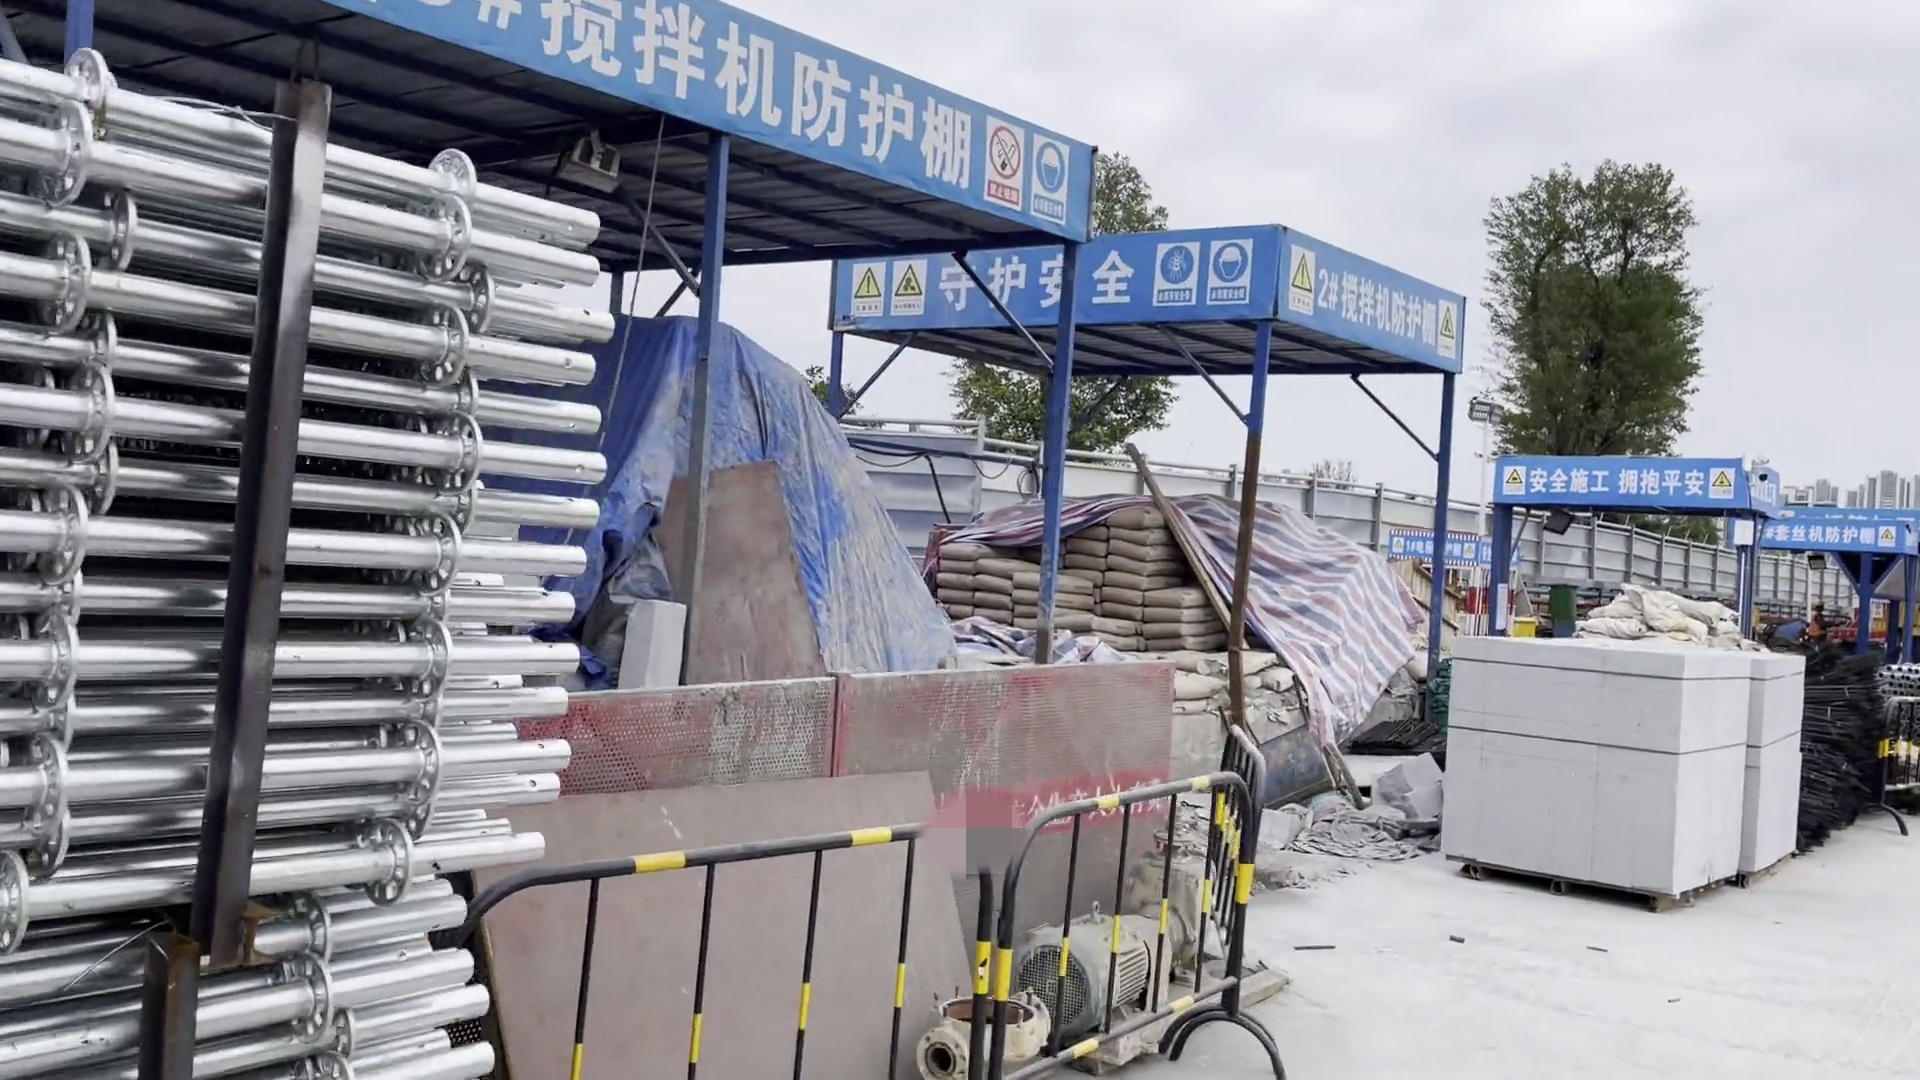brick: (1432, 636, 1807, 909)
scaffold: (1, 169, 678, 858), (1, 869, 495, 1080)
slogan: (928, 241, 1137, 324), (1524, 460, 1700, 495)
